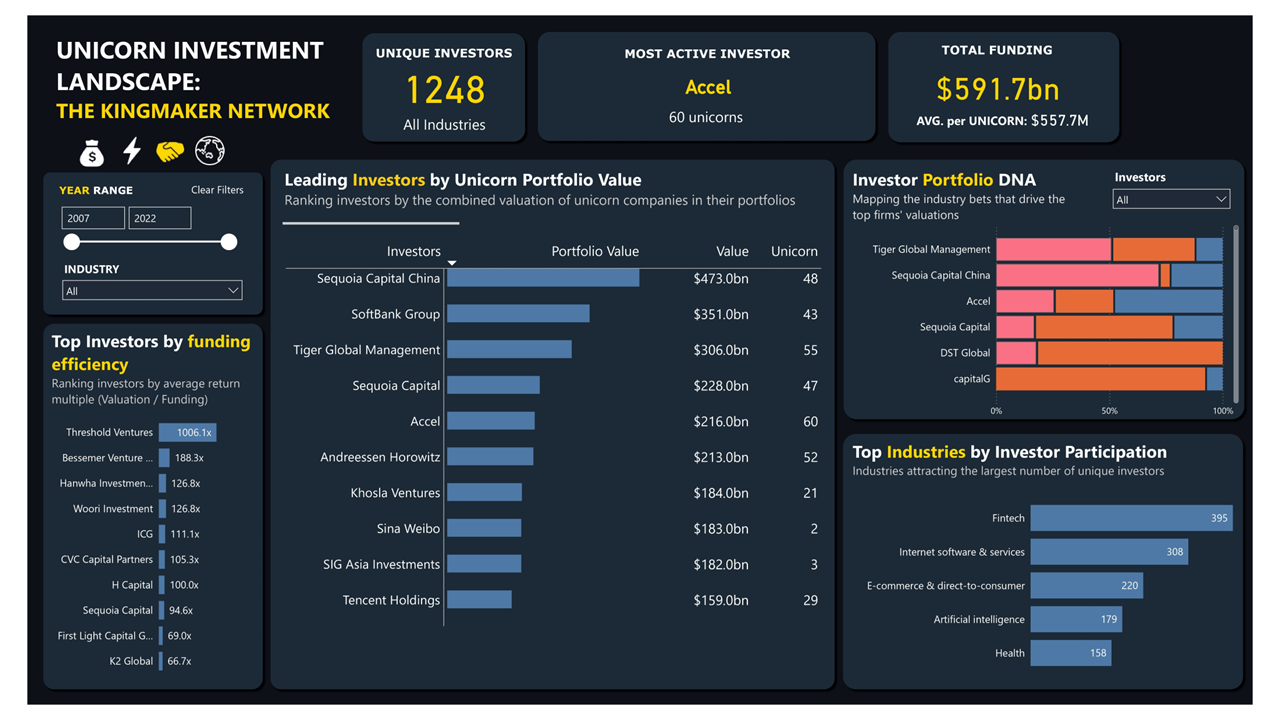

What the dashboard file says about the page in this screenshot:
{"tool":"powerbi","page":{"name":"Investors","canvas":[1280,720],"ordinal":1},"visuals":[{"type":"actionButton","box":[9.9,74.3,51.2,39.6],"z":0},{"type":"textbox","box":[9.6,12.4,260.1,81.2],"z":1000},{"type":"shape","box":[247.7,16.5,62.8,102.4],"z":2000},{"type":"card","title":"Funding","fields":{"Values":["Sum(Table1. Valuation $ )"]},"box":[310.5,16.5,188.3,89.2],"z":3000},{"type":"card","title":"Valuation","fields":{"Values":["Sum(Table1. Funding $ )"]},"box":[498.8,16.5,170.1,89.2],"z":4000},{"type":"card","title":"# of Investors","fields":{"Values":["Count(Table1.InvestorName)"]},"box":[668.9,16.5,130.5,89.2],"z":5000},{"type":"slicer","fields":{"Values":["Table1.Date Joined.Variation.Date Hierarchy.Year"]},"box":[1055.4,16.5,196.5,76],"z":6000},{"type":"clusteredColumnChart","title":"Top Investors","fields":{"Category":["Table1.InvestorName"],"Y":["Sum(Table1. Funding $ )"]},"box":[9.9,118.9,630.9,285.7],"z":7000},{"type":"clusteredColumnChart","title":"# of Companies Invested","fields":{"Category":["Table1.InvestorName"],"Y":["Count(Table1.Company)"]},"box":[640.8,118.9,639.2,285.7],"z":8000},{"type":"tableEx","fields":{"Values":["Table1.InvestorName","Table1.Industry","Sum(Table1. Funding $ )"]},"box":[13.2,414.6,627.6,285.7],"z":9000},{"type":"clusteredColumnChart","title":"# of Investors by Country","fields":{"Category":["Table1.Country"],"Y":["Count(Table1.InvestorName)"]},"box":[641,415,639,286],"z":10000},{"type":"slicer","fields":{"Values":["Table1.Industry"]},"box":[848.9,14.9,186.6,79.3],"z":11000}]}

Visuals, with their boxes in screenshot pixels (x1, y1, x2, y2), scaled from the page's 1280x720 canvas onto the 1280x720 screenshot:
actionButton: [x1=10, y1=74, x2=61, y2=114]
textbox: [x1=10, y1=12, x2=270, y2=94]
shape: [x1=248, y1=16, x2=310, y2=119]
"Funding" card: [x1=310, y1=16, x2=499, y2=106]
"Valuation" card: [x1=499, y1=16, x2=669, y2=106]
"# of Investors" card: [x1=669, y1=16, x2=799, y2=106]
slicer - Table1.Date Joined.Variation.Date Hierarchy.Year: [x1=1055, y1=16, x2=1252, y2=92]
"Top Investors" clusteredColumnChart: [x1=10, y1=119, x2=641, y2=405]
"# of Companies Invested" clusteredColumnChart: [x1=641, y1=119, x2=1279, y2=405]
tableEx - Table1.InvestorName x Table1.Industry: [x1=13, y1=415, x2=641, y2=700]
"# of Investors by Country" clusteredColumnChart: [x1=641, y1=415, x2=1279, y2=701]
slicer - Table1.Industry: [x1=849, y1=15, x2=1036, y2=94]
